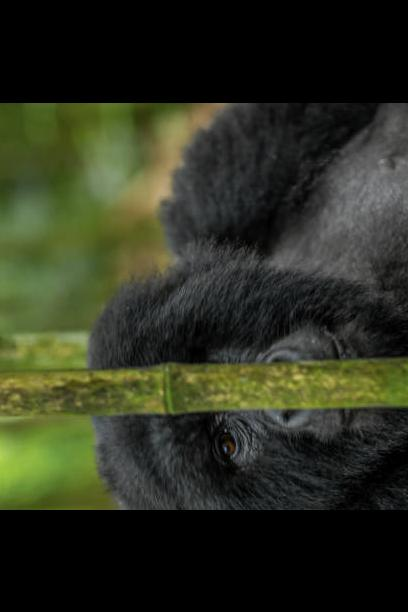goriile_montagne: (95, 102, 408, 493)
